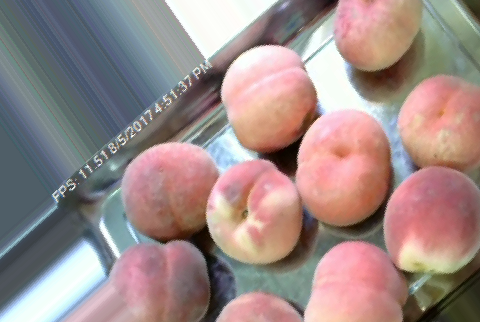Peach: (297, 110, 391, 226), (383, 167, 478, 275), (221, 44, 317, 149), (208, 160, 299, 266), (122, 141, 218, 240), (102, 239, 211, 322), (305, 238, 406, 322), (394, 74, 479, 170), (331, 0, 423, 72)
